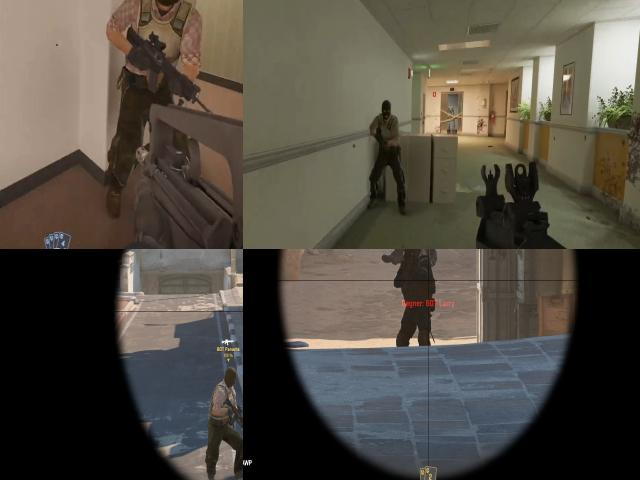CT: (396, 249, 433, 343)
CT-Head: (405, 249, 416, 263)
Dead: (388, 249, 438, 262)
T: (116, 0, 199, 178), (205, 365, 243, 479), (372, 100, 402, 161)
T-Head: (148, 0, 197, 14), (376, 99, 395, 124), (224, 368, 236, 385)
